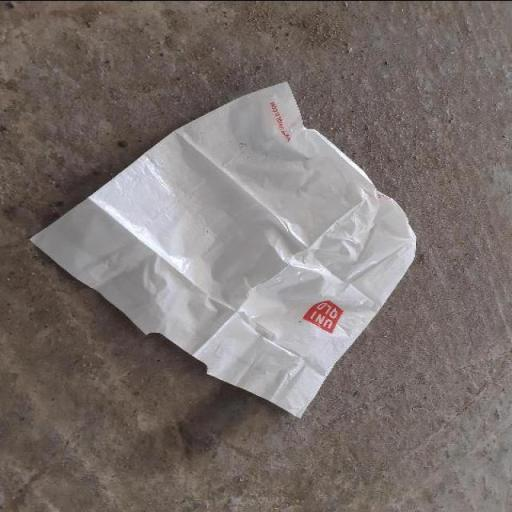plastic-bag: (22, 80, 421, 418)
